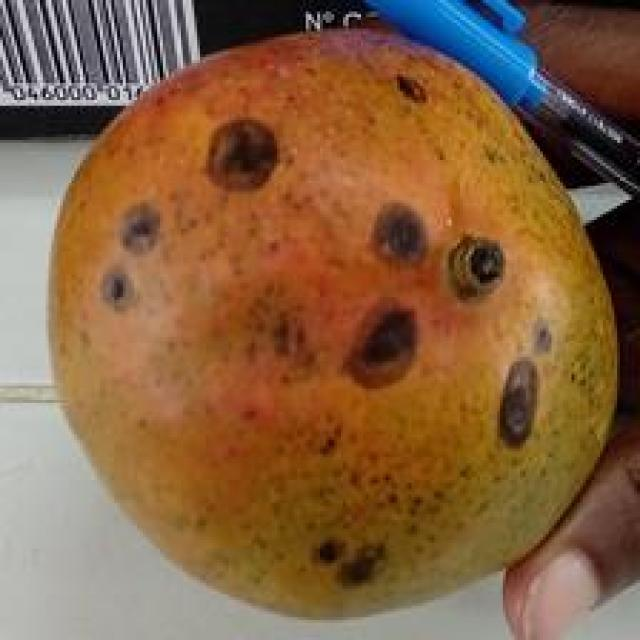Mango: (59, 36, 616, 609)
